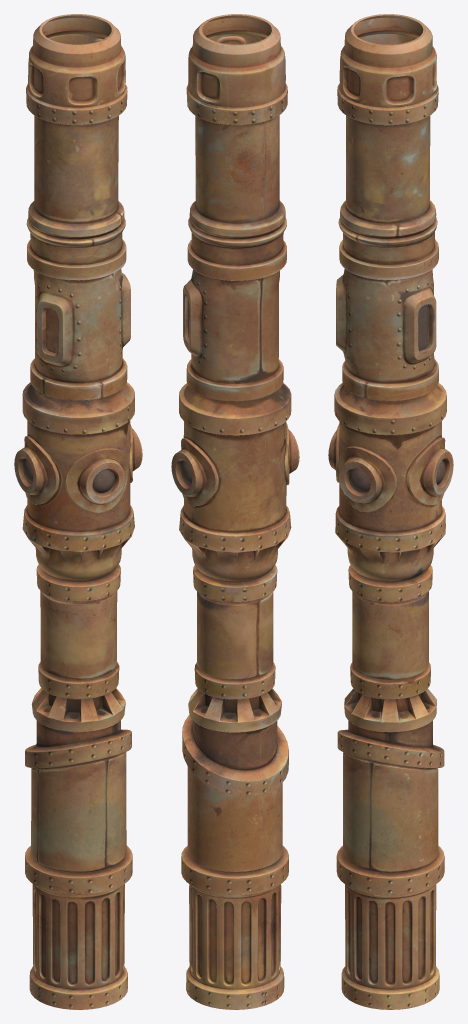
Rendered from Pipe00.fbx.
The picture shows the model from 3 angles, left to right: view 1: azimuth 30°, elevation 25°; view 2: azimuth 210°, elevation 25°; view 3: azimuth 330°, elevation 25°; orthographic projection.
Visible parts, largest first — view 1: Pipe0_LOD00; view 2: Pipe0_LOD00; view 3: Pipe0_LOD00.
Boxes of the visible parts, left/top/right/bottom form: Pipe0_LOD00: left=14, top=14, right=142, bottom=1009; Pipe0_LOD00: left=171, top=14, right=299, bottom=1009; Pipe0_LOD00: left=328, top=14, right=453, bottom=1009.
Size of what is drawn, in the model's own units: 361 by 3126 by 346.
